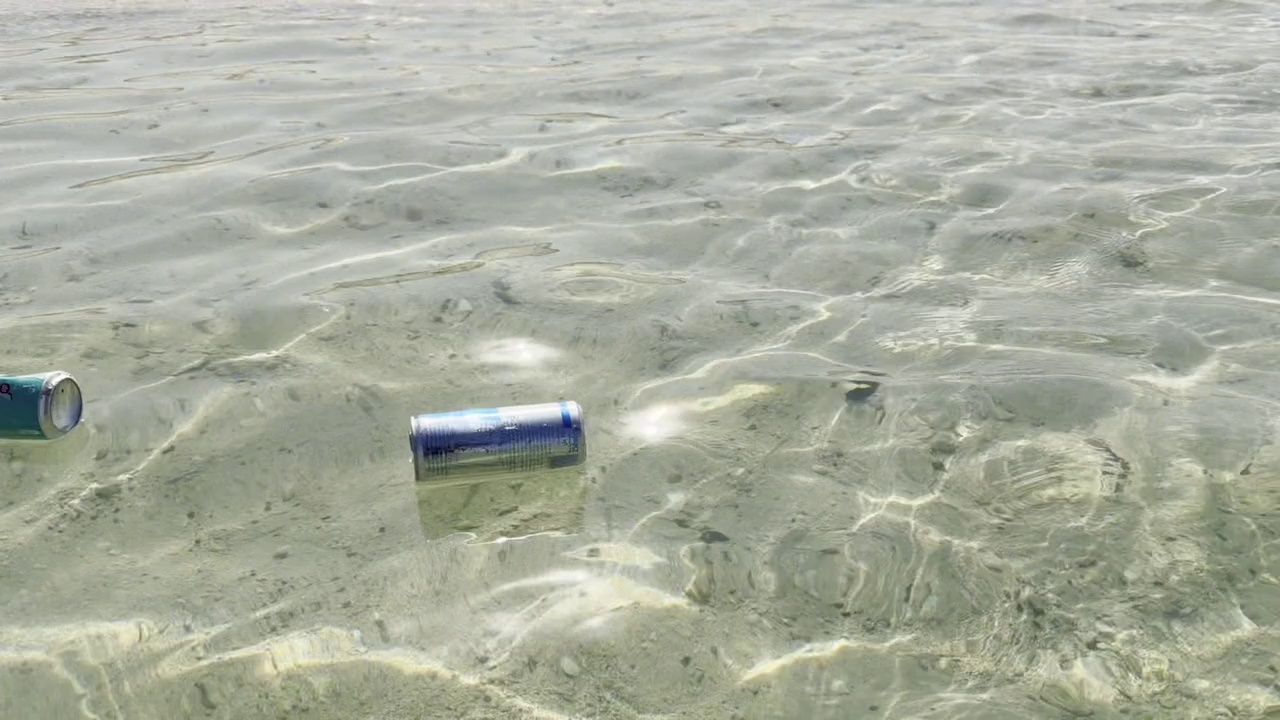debris: (396, 388, 589, 499), (0, 366, 93, 442)
